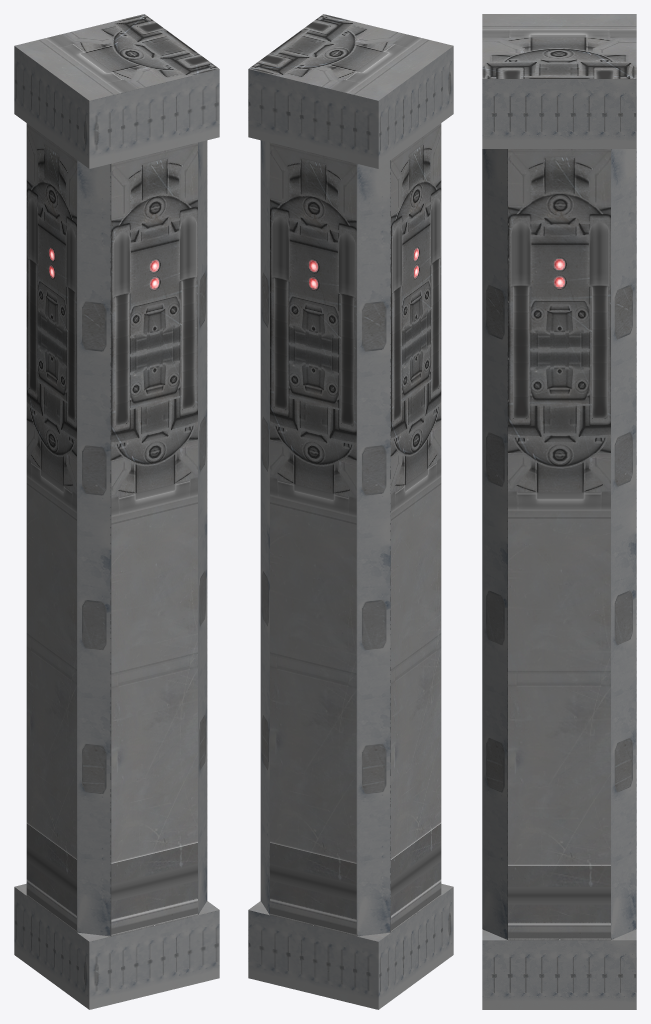
Rendered from SM_PillarsB_g.fbx.
3 renders of one model, left to right at view 1: azimuth 30°, elevation 25°; view 2: azimuth 150°, elevation 25°; view 3: azimuth 270°, elevation 25°, orthographic. The views are drawn at different scales.
Visible parts, largest first — view 1: SM_PillarsB_g_LOD0; view 2: SM_PillarsB_g_LOD0; view 3: SM_PillarsB_g_LOD0.
Boxes of the visible parts, x1,y1,x2,y2 form: SM_PillarsB_g_LOD0: (14,14,219,1009); SM_PillarsB_g_LOD0: (248,14,453,1009); SM_PillarsB_g_LOD0: (482,14,636,1009).
Bounding box in the file's own units: 60 × 60 × 400.
Materials: 2 (2 with a texture image).
